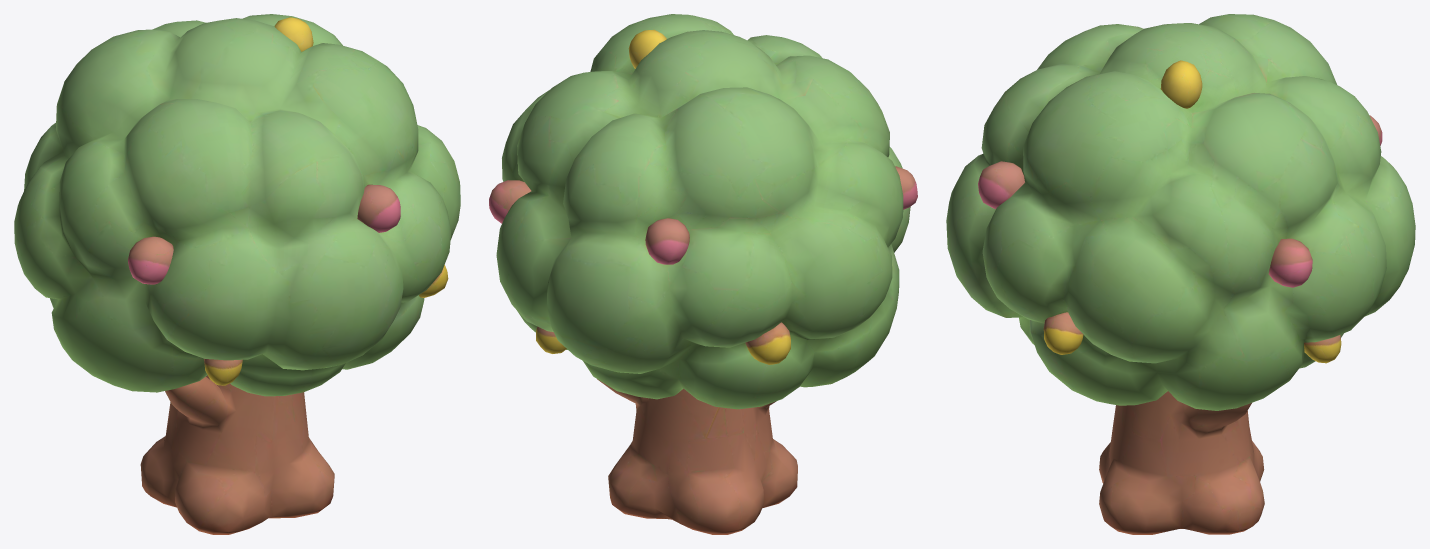
The model's file is park-tree.glb.
The picture shows the model from 3 angles, left to right: view 1: azimuth 30°, elevation 25°; view 2: azimuth 150°, elevation 25°; view 3: azimuth 270°, elevation 25°; orthographic projection. The views are drawn at different scales.
Parts seen in each view (by area): view 1: geometry_0; view 2: geometry_0; view 3: geometry_0.
Part boxes in pixels (<box>): geometry_0: <box>14,14,460,534</box>; geometry_0: <box>489,14,917,534</box>; geometry_0: <box>946,14,1415,534</box>.
Size of the model in its own units: 0.8835 by 1 by 0.904.
1 material, 1 textured.
